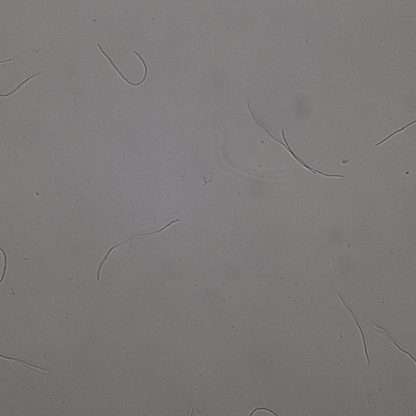Sensitive: (247, 100, 344, 178), (96, 219, 177, 278), (98, 43, 148, 86), (339, 295, 371, 362), (374, 325, 416, 362), (1, 70, 46, 101), (374, 120, 416, 146), (1, 354, 48, 373), (248, 407, 277, 416), (1, 248, 8, 285)
